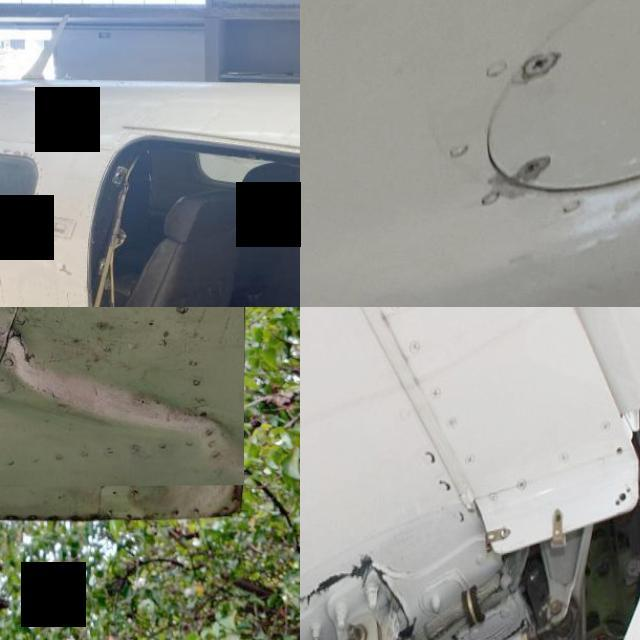Crack: (300, 555, 412, 640), (42, 328, 82, 372)
Dent: (0, 307, 244, 488), (116, 398, 252, 527)
